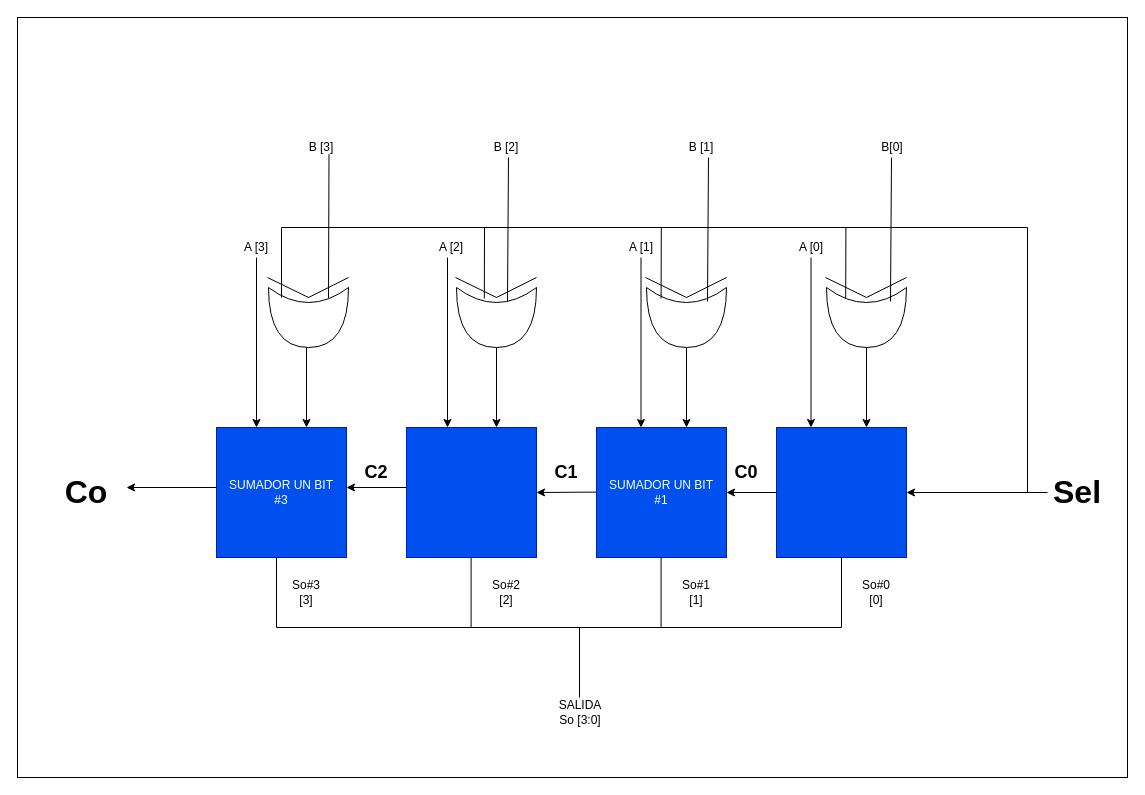
This 1145x795 diagram has some shape labels left out. Here are the shapes that lost their labels. From the top down, the centre of each, then its label:
point (471, 492): SUMADOR UN BIT #2
point (841, 492): SUMADOR UN BIT #0
